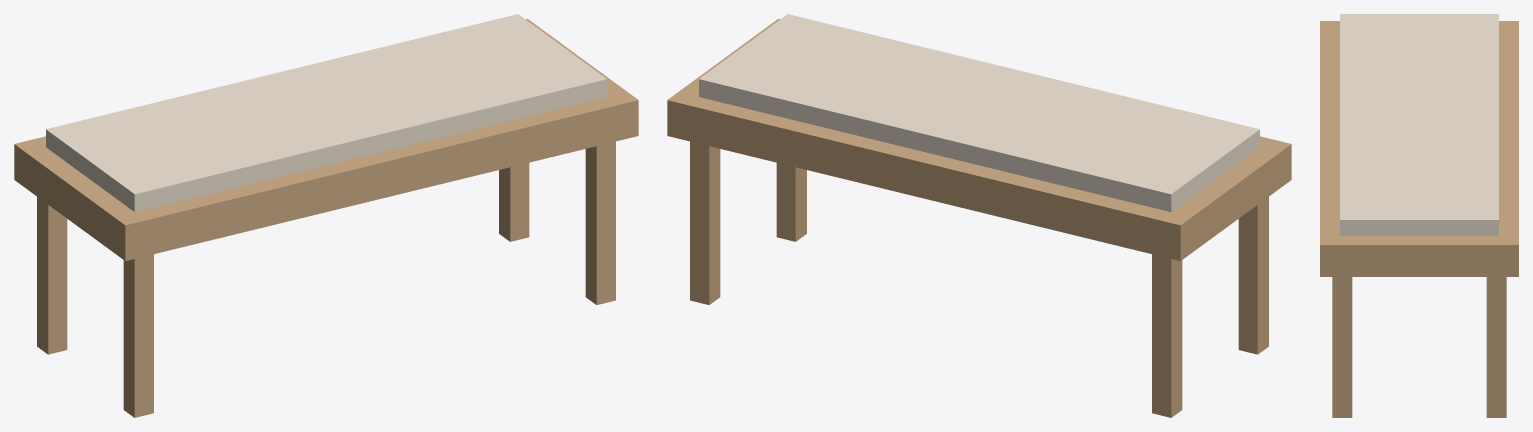
The model's file is mocan-54.glb.
The picture shows the model from 3 angles, left to right: view 1: azimuth 30°, elevation 25°; view 2: azimuth 150°, elevation 25°; view 3: azimuth 270°, elevation 25°; orthographic projection. The views are drawn at different scales.
Parts seen in each view (by area): view 1: furniture; view 2: furniture; view 3: furniture.
Part boxes in pixels (x1,y1,x2,y2): furniture: (14, 14, 638, 417); furniture: (667, 14, 1291, 417); furniture: (1320, 14, 1518, 417).
Bounding box in the file's own units: 1.2 × 0.49 × 0.45.
